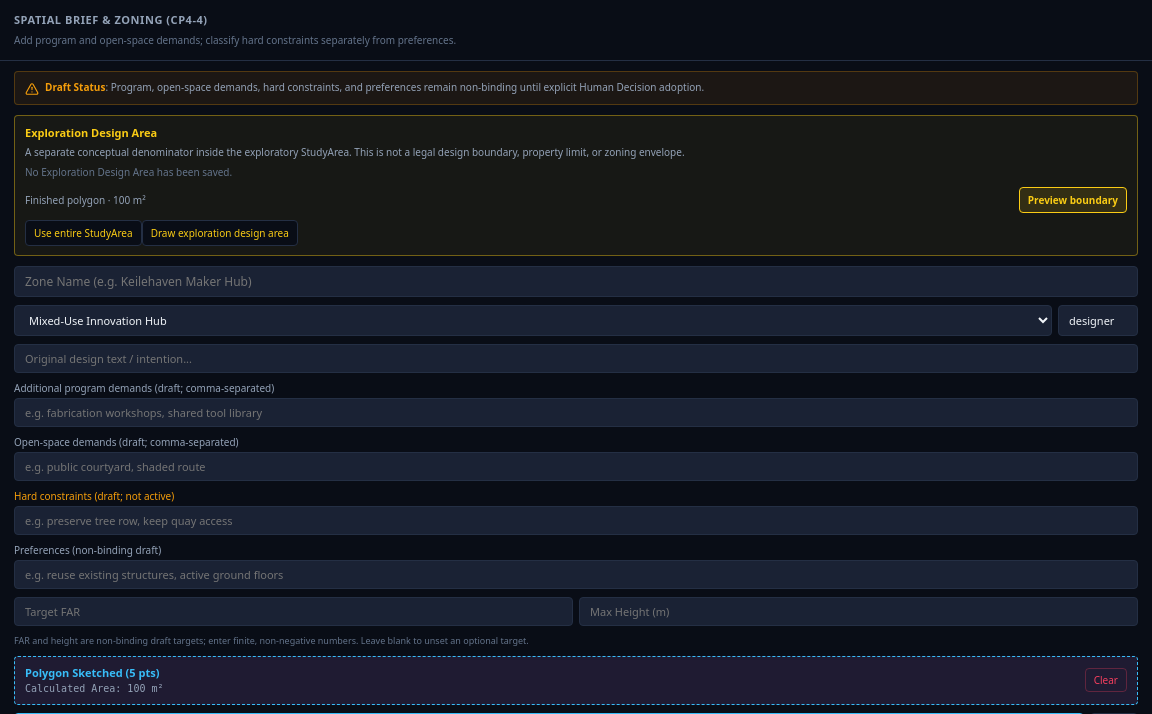
it: SidebarBrief StudyArea scope › clearly reports an empty StudyArea intersection and does not offer confirmation
This screenshot has width=1152, height=714.
Click the button with aria-label "Preview clipped design area" at (1073,200), box [1019,187,1127,213]
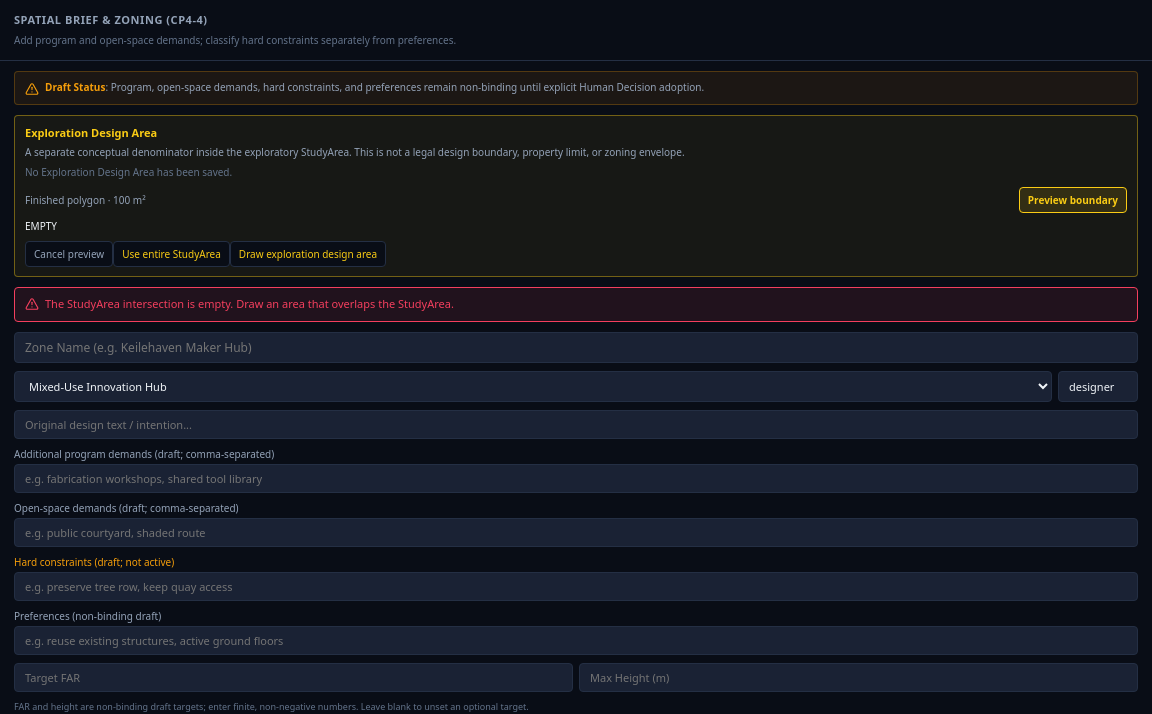
Expected: the message "The StudyArea intersection is empty. Draw an area that overlaps the StudyArea." is shown, [14,287,1138,322]
